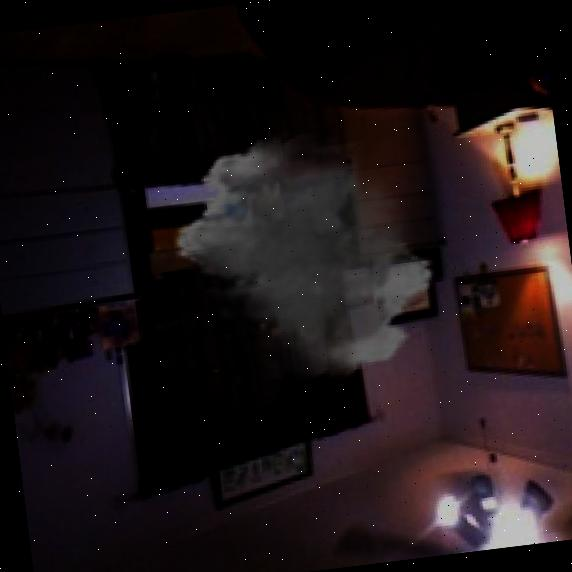smoke: (159, 114, 448, 401)
